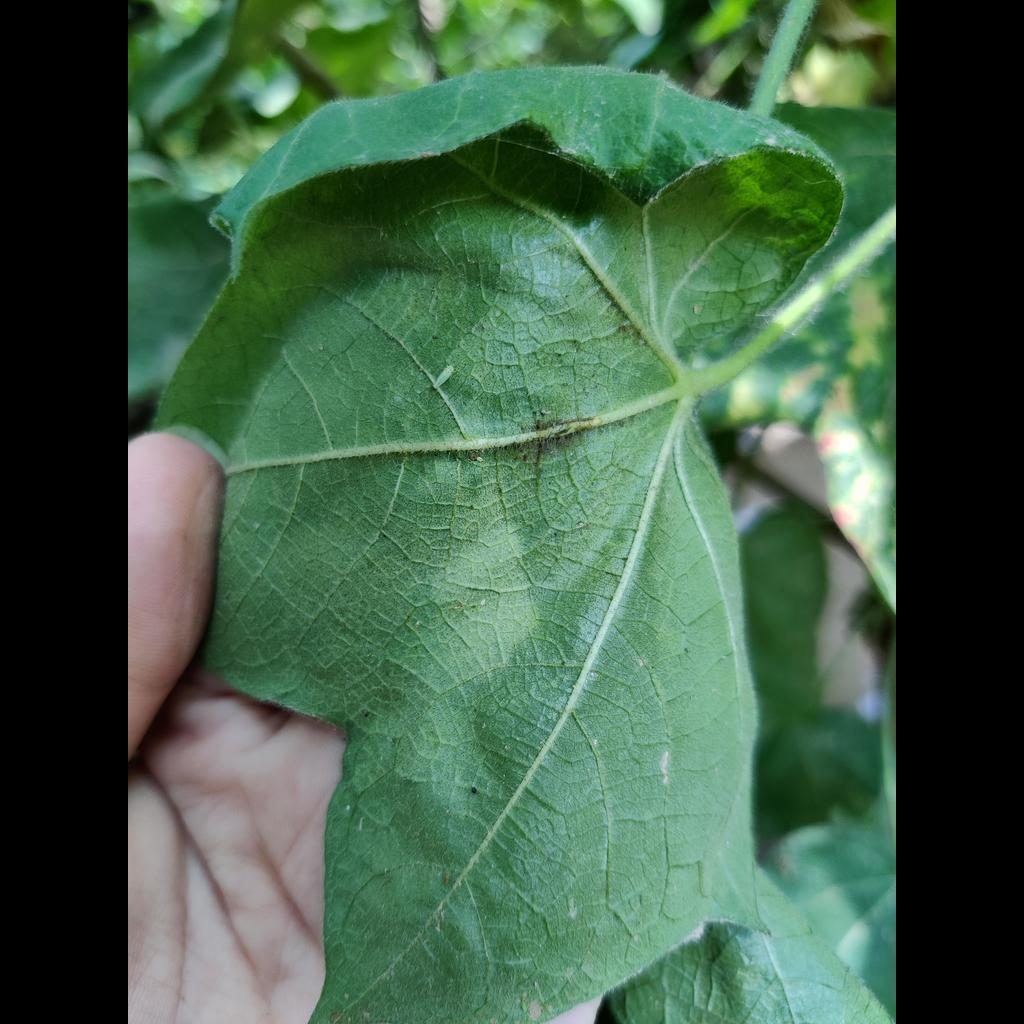nymph: (476, 456, 484, 462), (693, 305, 698, 314), (592, 740, 598, 746), (345, 805, 350, 811), (481, 599, 485, 606)
